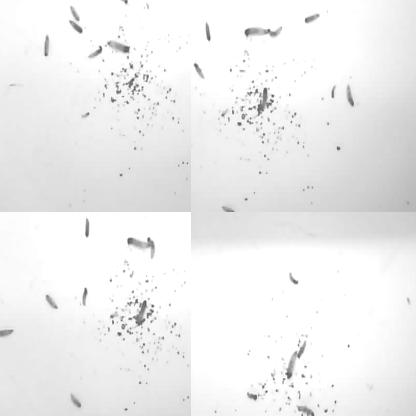PtecticusTenebrifer: (287, 350, 298, 379), (244, 27, 270, 38), (45, 294, 60, 312), (69, 392, 83, 411), (128, 238, 151, 249), (106, 42, 130, 52), (193, 61, 204, 81), (86, 46, 102, 59), (298, 340, 308, 360), (70, 20, 84, 34), (270, 25, 284, 39), (298, 405, 315, 416), (204, 20, 212, 42), (70, 4, 80, 21), (262, 86, 268, 114), (0, 326, 14, 338), (347, 84, 354, 107), (304, 14, 320, 24), (288, 272, 299, 284), (45, 34, 50, 58), (111, 0, 128, 7), (331, 83, 338, 100), (191, 59, 197, 78), (82, 288, 88, 307), (222, 204, 236, 212), (85, 217, 90, 239), (121, 0, 133, 9), (191, 118, 199, 131), (88, 212, 102, 219), (197, 0, 212, 6), (289, 212, 306, 217), (72, 0, 88, 5), (0, 212, 6, 222), (191, 212, 198, 219), (350, 0, 362, 4), (191, 322, 197, 330), (139, 0, 152, 3), (191, 0, 198, 5)
